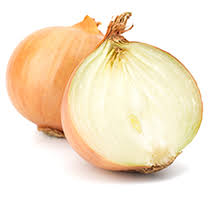Onion: (62, 29, 207, 188)
